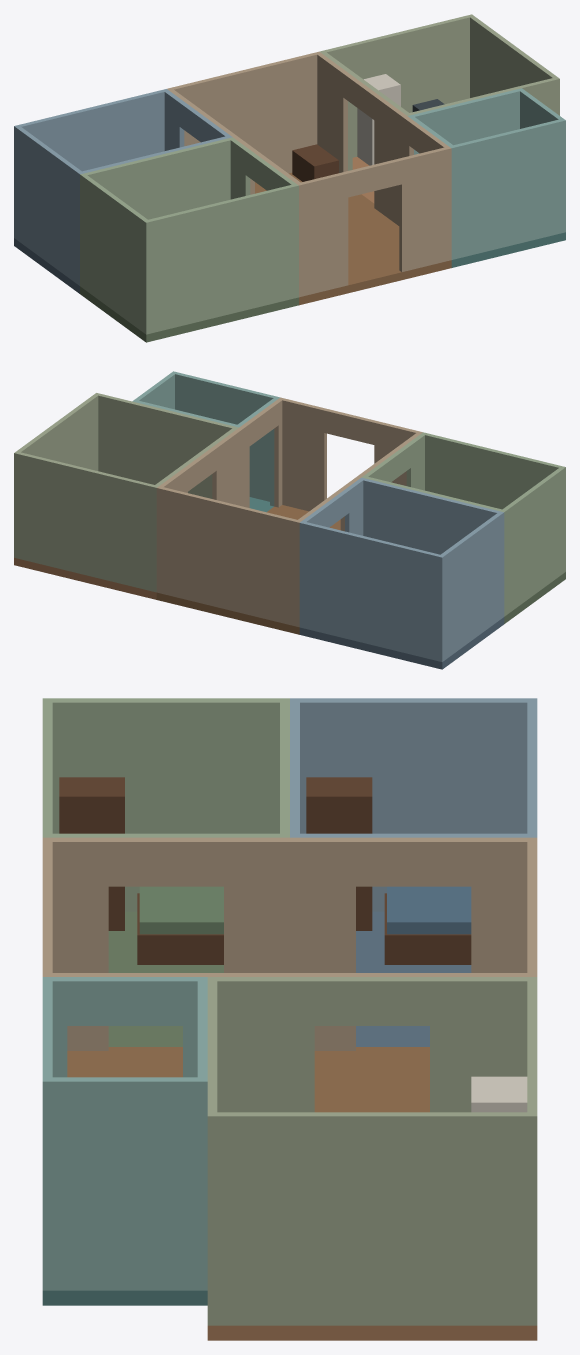
The model's file is house-assembled.glb.
3 renders of one model, top to bottom at view 1: azimuth 30°, elevation 25°; view 2: azimuth 150°, elevation 25°; view 3: azimuth 270°, elevation 25°, orthographic. The views are drawn at different scales.
Parts seen in each view (by area): view 1: Room 2 south wall end, CR (bathroom) south wall end, Lobby north wall end, Kitchen north wall end, Room 2 west wall end, Room 2 north wall end, Room 1 west wall end, Room 1 north wall end, Lobby south wall segment 1, Lobby south wall end, Lobby Floor, Kitchen east wall end (+23 smaller); view 2: Room 1 north wall end, Lobby north wall end, Kitchen north wall end, Kitchen south wall end, Room 2 west wall end, Room 1 west wall end, Room 1 south wall end, Room 2 south wall end, Lobby south wall end, CR (bathroom) south wall end, Kitchen east wall end, Lobby east wall segment 2 (+19 smaller); view 3: Kitchen east wall end, CR (bathroom) east wall end, Room 1 west wall end, Room 2 west wall end, Lobby west wall segment 2, Kitchen west wall end, Kitchen west wall segment 1, Lobby Floor, Lobby west wall end, Lobby west wall segment 1, Lobby west wall door 1 lintel, Lobby west wall door 2 lintel (+24 smaller).
Boxes of the visible parts, x1=… form: Room 2 south wall end: x1=143, y1=184, x2=298, y2=334; CR (bathroom) south wall end: x1=449, y1=119, x2=565, y2=259; Lobby north wall end: x1=167, y1=51, x2=321, y2=173; Kitchen north wall end: x1=319, y1=14, x2=473, y2=157; Room 2 west wall end: x1=80, y1=174, x2=150, y2=334; Room 2 north wall end: x1=80, y1=137, x2=234, y2=287; Room 1 west wall end: x1=14, y1=125, x2=82, y2=284; Room 1 north wall end: x1=14, y1=89, x2=168, y2=238; Lobby south wall segment 1: x1=296, y1=171, x2=348, y2=297; Lobby south wall end: x1=399, y1=146, x2=451, y2=271; Lobby Floor: x1=255, y1=172, x2=451, y2=305; Kitchen east wall end: x1=470, y1=14, x2=559, y2=114; Room 1 north wall end: x1=299, y1=521, x2=444, y2=661; Lobby north wall end: x1=156, y1=486, x2=301, y2=627; Kitchen north wall end: x1=14, y1=451, x2=158, y2=592; Kitchen south wall end: x1=94, y1=393, x2=238, y2=497; Room 2 west wall end: x1=500, y1=466, x2=565, y2=616; Room 1 west wall end: x1=438, y1=511, x2=504, y2=661; Room 1 south wall end: x1=359, y1=477, x2=504, y2=616; Room 2 south wall end: x1=421, y1=432, x2=565, y2=509; Lobby south wall end: x1=278, y1=397, x2=326, y2=511; CR (bathroom) south wall end: x1=171, y1=371, x2=279, y2=501; Kitchen east wall end: x1=14, y1=393, x2=100, y2=558; Lobby east wall segment 2: x1=212, y1=423, x2=249, y2=507; Kitchen east wall end: x1=207, y1=1112, x2=537, y2=1325; CR (bathroom) east wall end: x1=42, y1=1077, x2=207, y2=1290; Room 1 west wall end: x1=290, y1=698, x2=536, y2=911; Room 2 west wall end: x1=43, y1=698, x2=289, y2=911; Lobby west wall segment 2: x1=224, y1=837, x2=355, y2=1050; Kitchen west wall end: x1=207, y1=977, x2=314, y2=1112; Kitchen west wall segment 1: x1=430, y1=977, x2=537, y2=1112; Lobby Floor: x1=67, y1=1047, x2=429, y2=1112; Lobby west wall end: x1=43, y1=837, x2=108, y2=1050; Lobby west wall segment 1: x1=471, y1=837, x2=535, y2=972; Lobby west wall door 1 lintel: x1=356, y1=837, x2=471, y2=886; Lobby west wall door 2 lintel: x1=108, y1=837, x2=223, y2=886.
Bounding box in the file's own units: 12 × 3 × 6.
